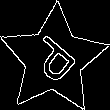P_SE: (23, 29, 84, 90)
